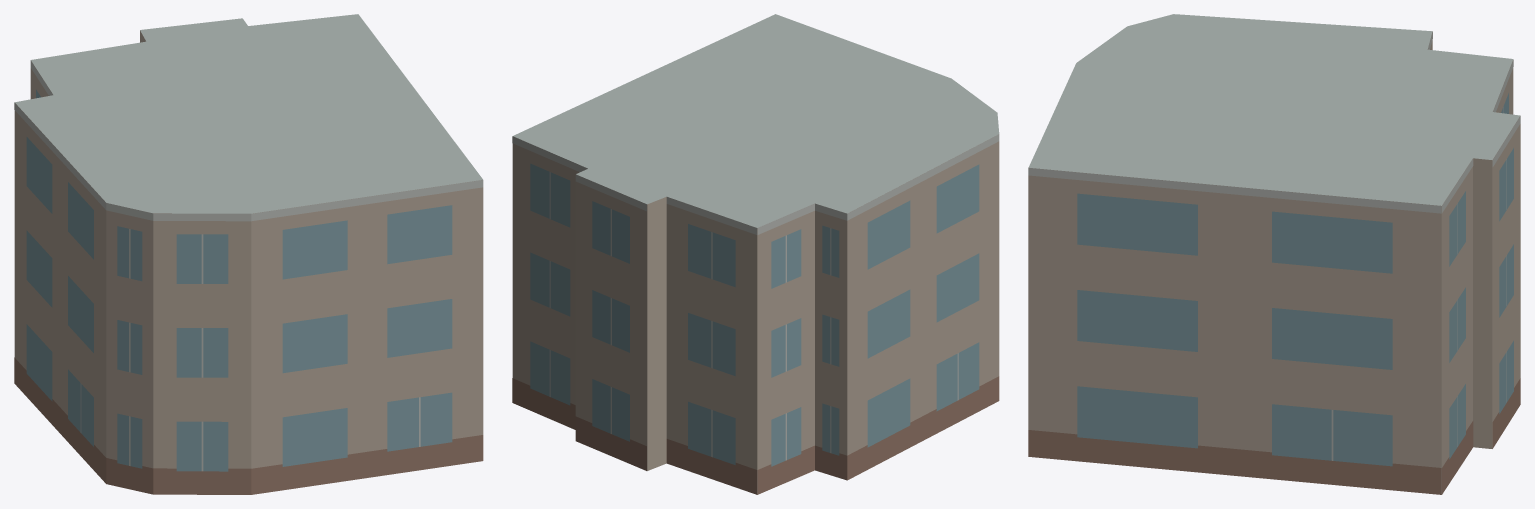
Rendered from survey-upis-32460859.glb.
The picture shows the model from 3 angles, left to right: view 1: azimuth 30°, elevation 25°; view 2: azimuth 150°, elevation 25°; view 3: azimuth 270°, elevation 25°; orthographic projection. The views are drawn at different scales.
Parts seen in each view (by area): view 1: survey-upis-32460859.tmp; view 2: survey-upis-32460859.tmp; view 3: survey-upis-32460859.tmp.
Part boxes in pixels (x1=…): survey-upis-32460859.tmp: x1=14, y1=14, x2=483, y2=494; survey-upis-32460859.tmp: x1=512, y1=14, x2=999, y2=494; survey-upis-32460859.tmp: x1=1028, y1=14, x2=1520, y2=494.
Bounding box in the file's own units: 12.96 × 9.1 × 14.05.
